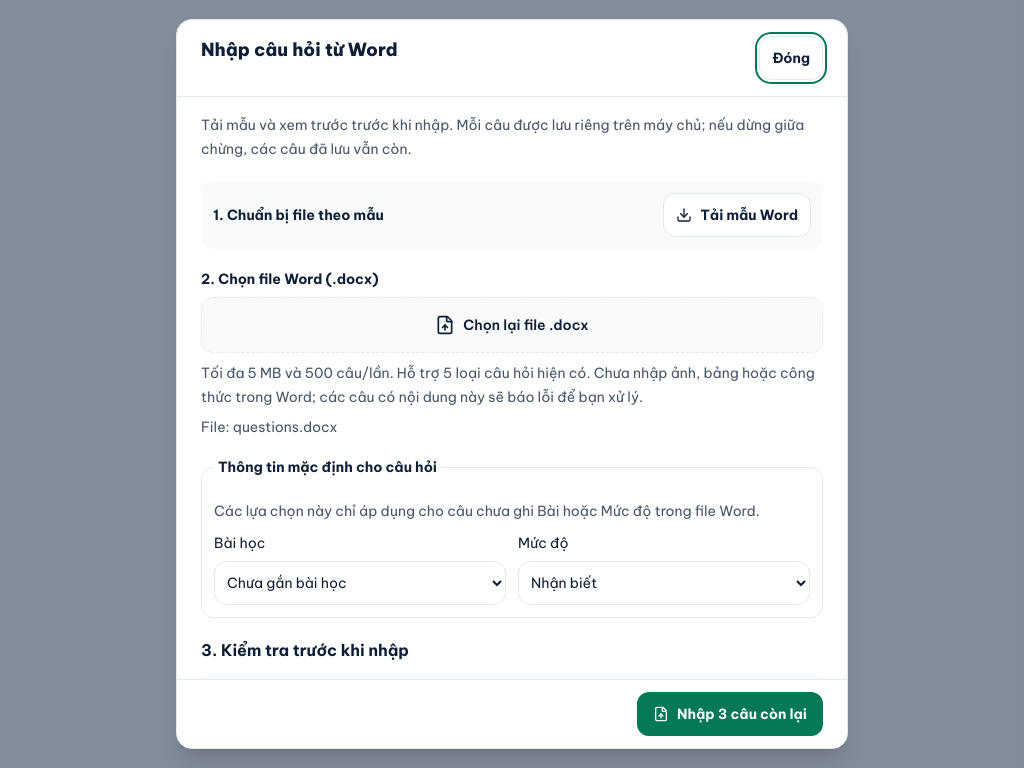
it: Question Word import confirmation › warns about an uncertain POST before closing without retrying it
This screenshot has width=1024, height=768.
Earlier steps of the test are not shown.
Later steps or results of the test are not shown.
What coordinates should you click on to do the following:
click the button "Nhập 3 câu còn lại"
I would click on:
 (730, 714)
Its box is [637,692,823,736].
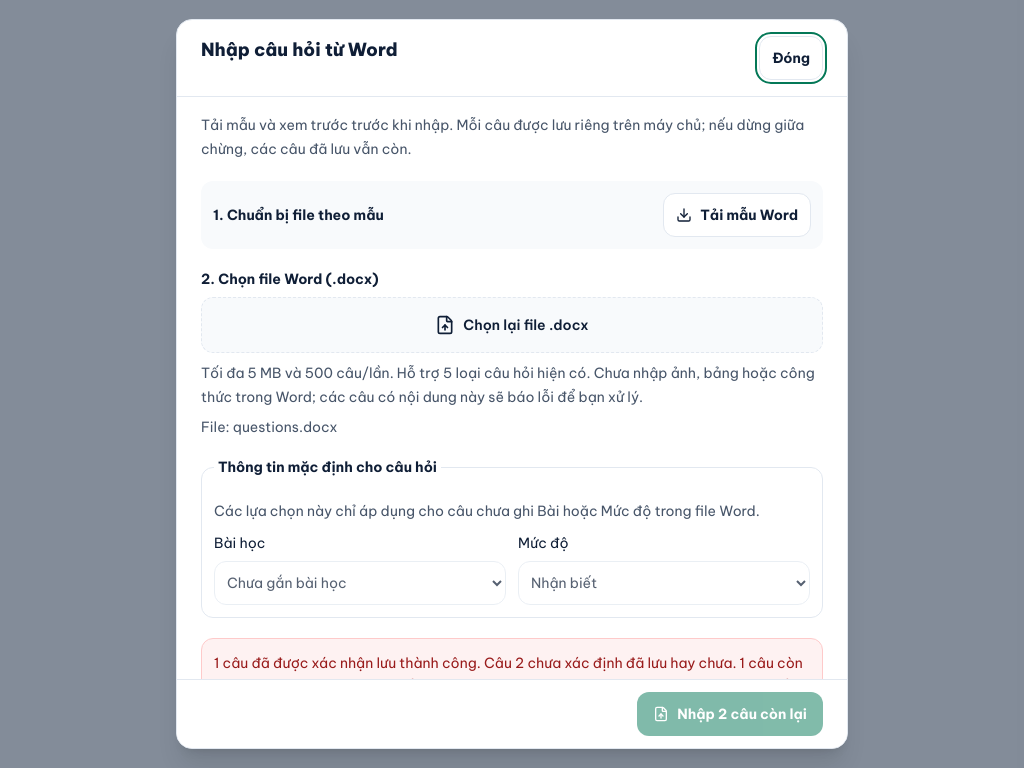
What coordinates should you click on to do the following:
click the button with aria-label "Đóng hộp thoại"
I would click on:
 (791, 58)
Its box is [759,36,823,80].
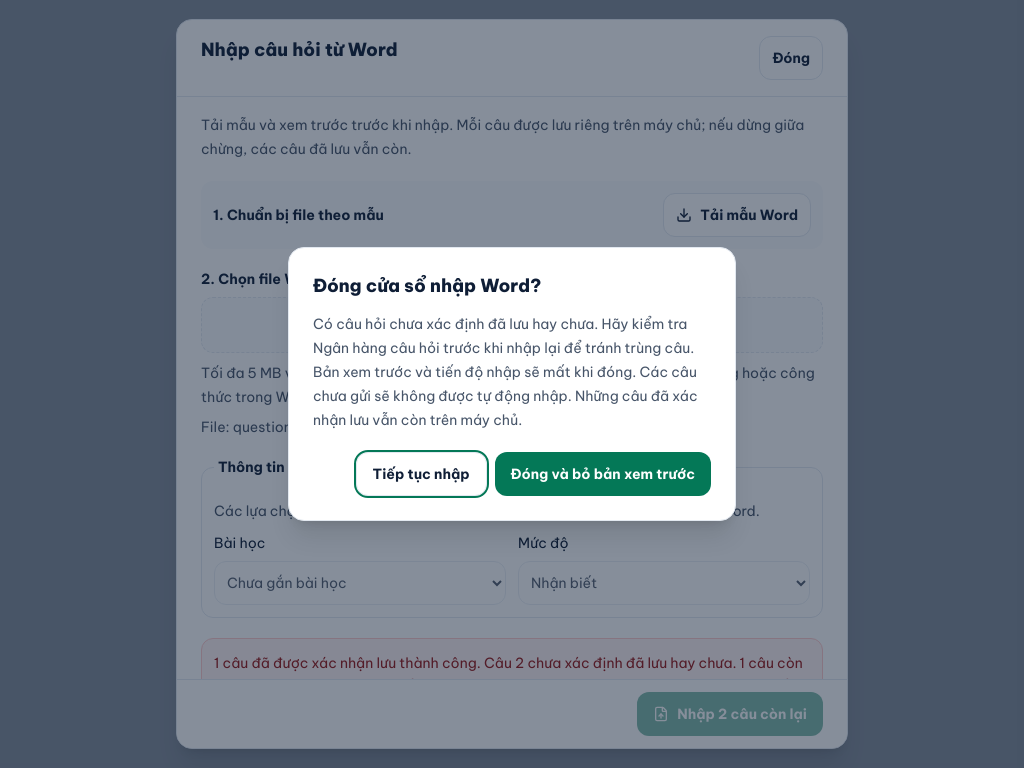
Expected: the dialog that starts with "Đóng cửa sổ nhập Word?" shows "chưa xác định đã lưu hay chưa", [313,315,694,357]
Expected: the dialog that starts with "Đóng cửa sổ nhập Word?" shows "kiểm tra Ngân hàng câu hỏi", [313,315,694,357]
